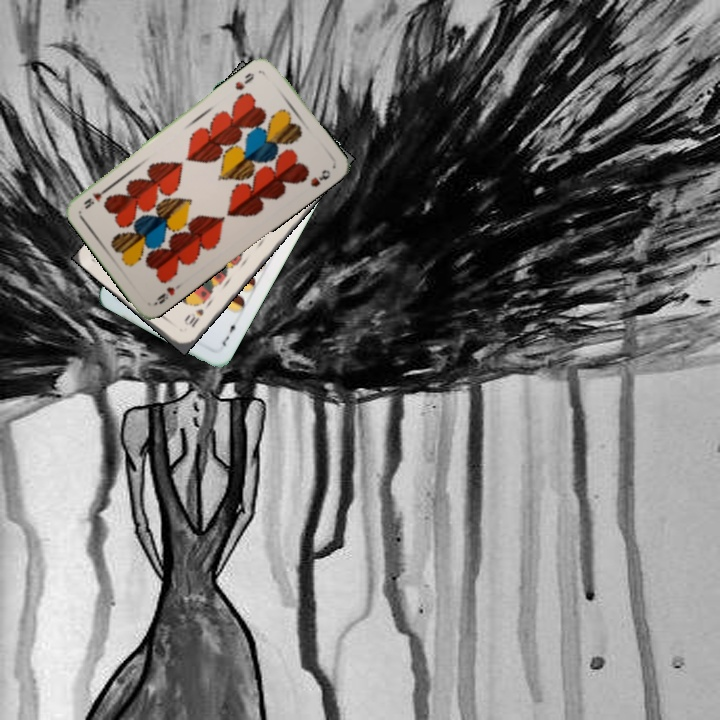E7: (218, 317, 241, 348)
H9: (150, 278, 185, 308), (231, 69, 257, 93)
S10: (181, 305, 206, 330)
